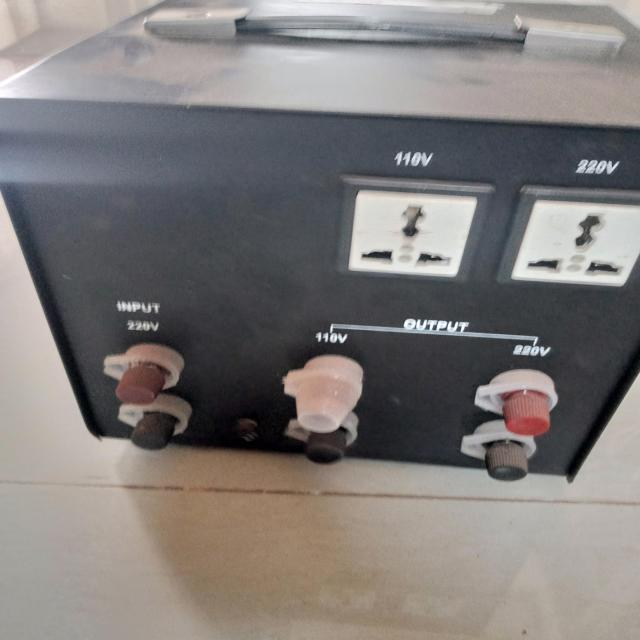AC POWER Stabilizer: (6, 0, 640, 494)
